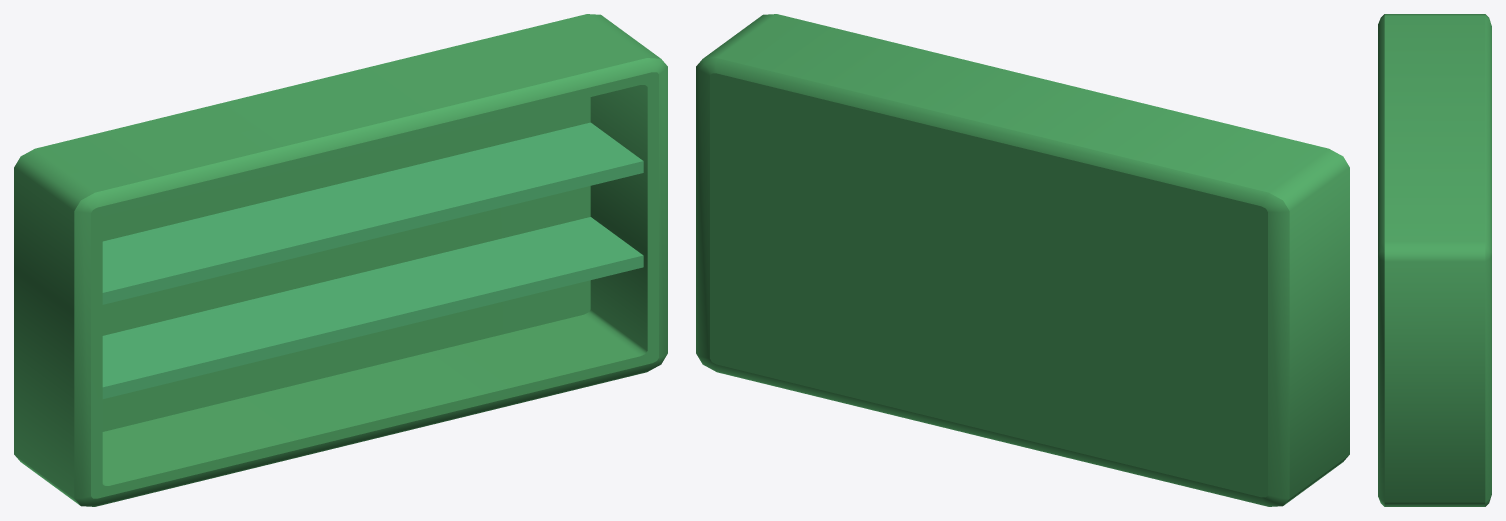
Rendered from Furnit_E_15.glb.
The picture shows the model from 3 angles, left to right: view 1: azimuth 30°, elevation 25°; view 2: azimuth 150°, elevation 25°; view 3: azimuth 270°, elevation 25°; orthographic projection. The views are drawn at different scales.
Parts seen in each view (by area): view 1: Furnit_E_15; view 2: Furnit_E_15; view 3: Furnit_E_15.
Part boxes in pixels (<box>): Furnit_E_15: <box>14,14,667,506</box>; Furnit_E_15: <box>696,14,1349,506</box>; Furnit_E_15: <box>1378,14,1491,506</box>.
Size of the model in its own units: 1.8 by 0.9107 by 0.3574.
1 material, 1 textured.
